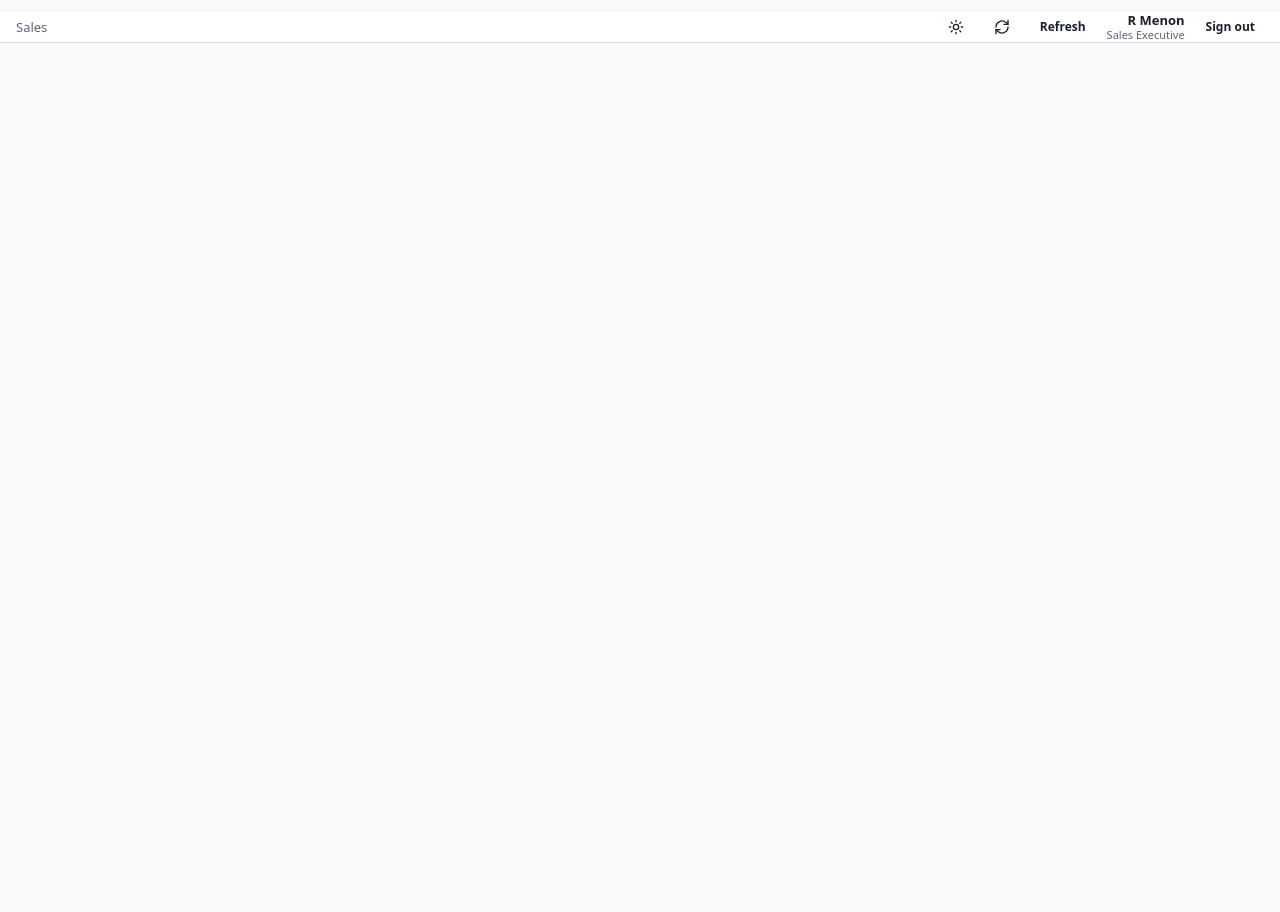
TopBar › syncs the sheet and reports the result
This screenshot has width=1280, height=912.
Click the button named "Sync job sheet": (1002, 27) [985,15,1019,39]
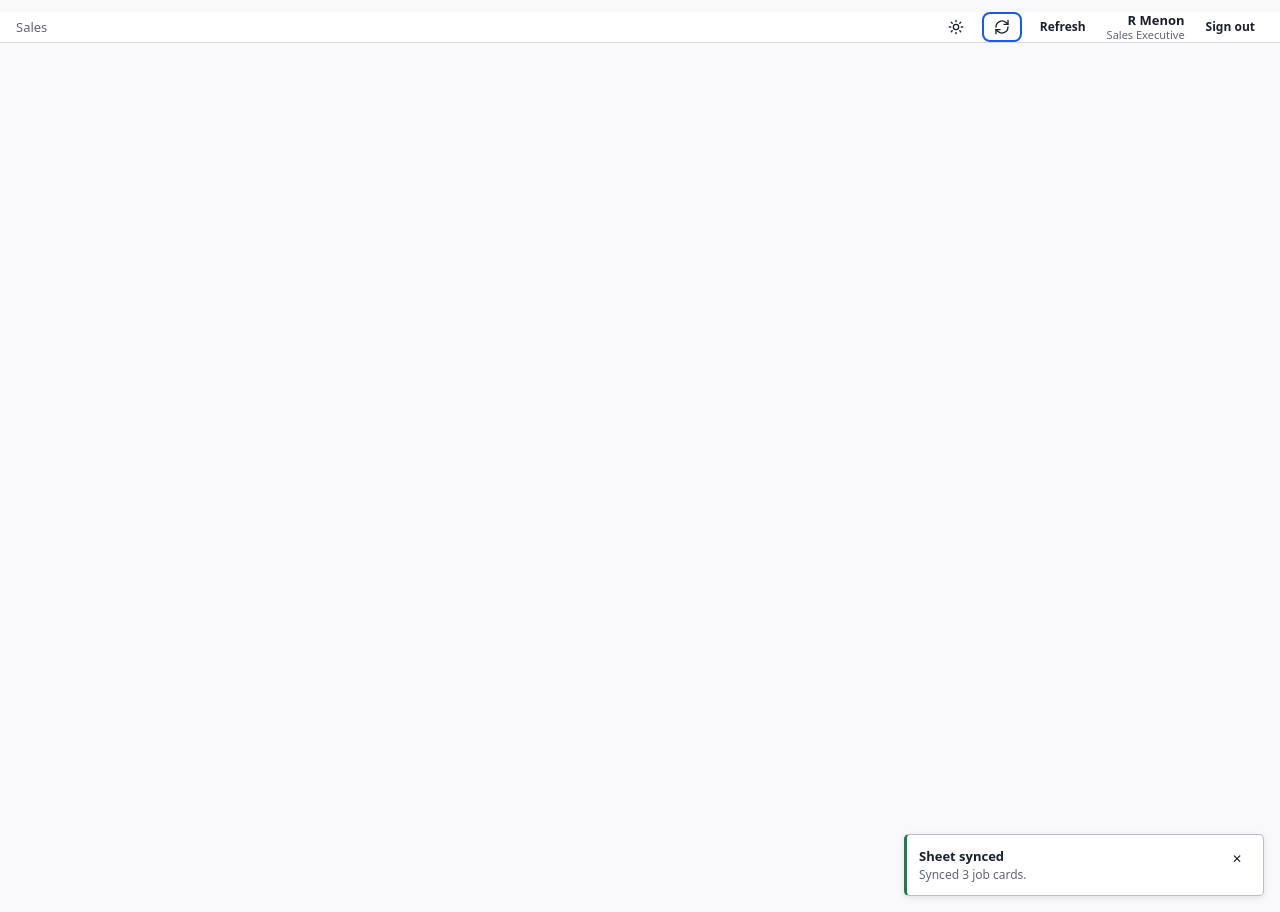
Result: the text "Synced 3 job cards." is shown at [919,866,1026,883]
